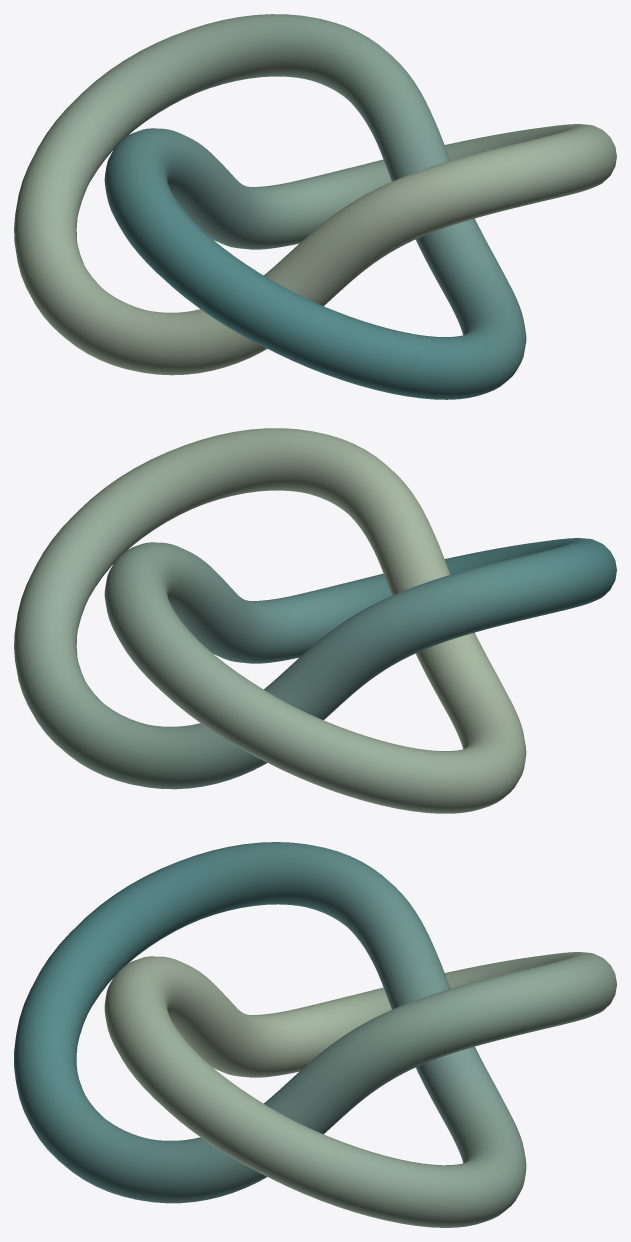
Rendered from trefoil.glb.
The picture shows the model from 3 angles, top to bottom: view 1: azimuth 30°, elevation 25°; view 2: azimuth 150°, elevation 25°; view 3: azimuth 270°, elevation 25°; orthographic projection.
Parts seen in each view (by area): view 1: Trefoil; view 2: Trefoil; view 3: Trefoil.
Part boxes in pixels (x1,y1,x2,y2): Trefoil: [14, 14, 616, 399]; Trefoil: [14, 428, 616, 813]; Trefoil: [14, 842, 616, 1227].
Size of the model in its own units: 3.96 by 1.63 by 4.13.
